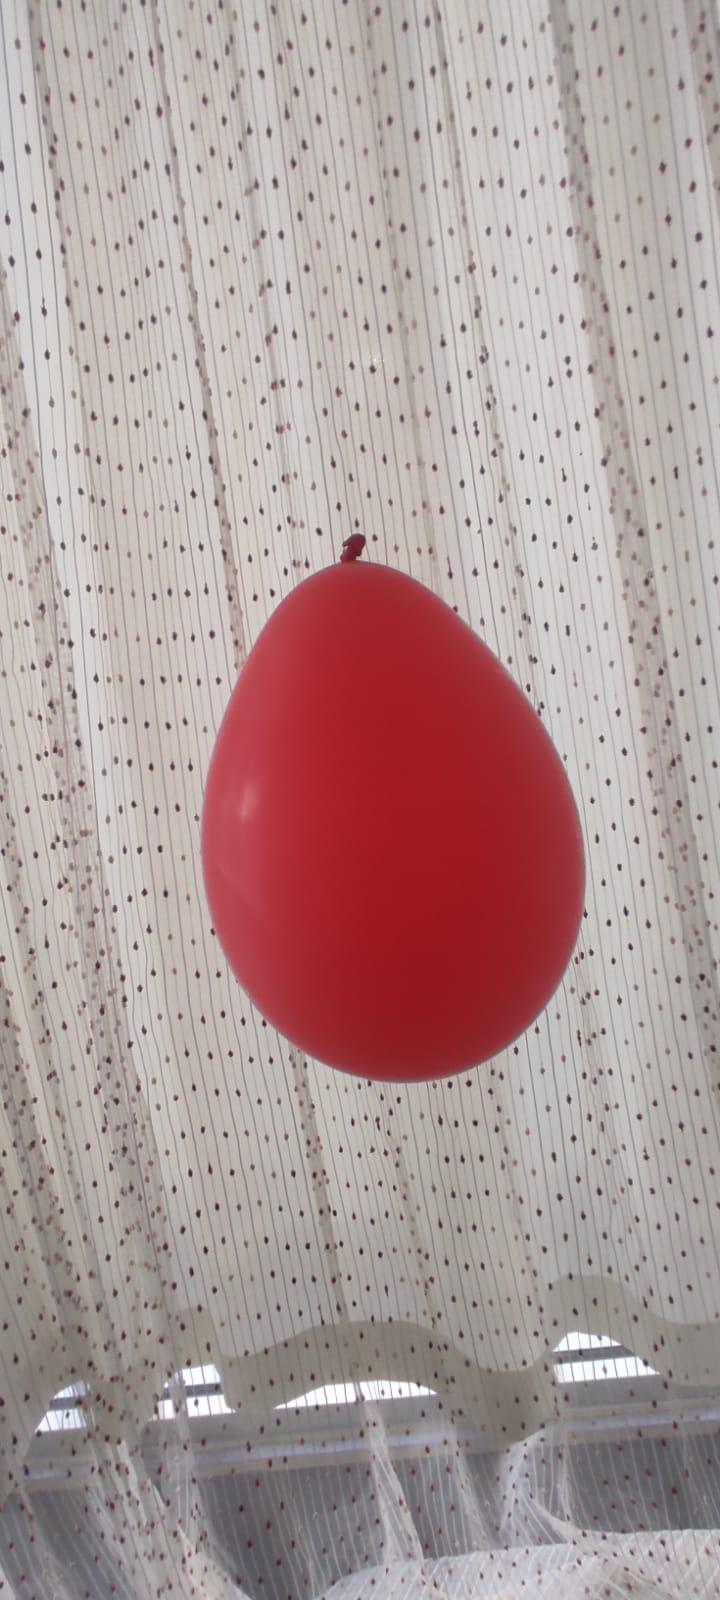red: (194, 528, 598, 1091)
